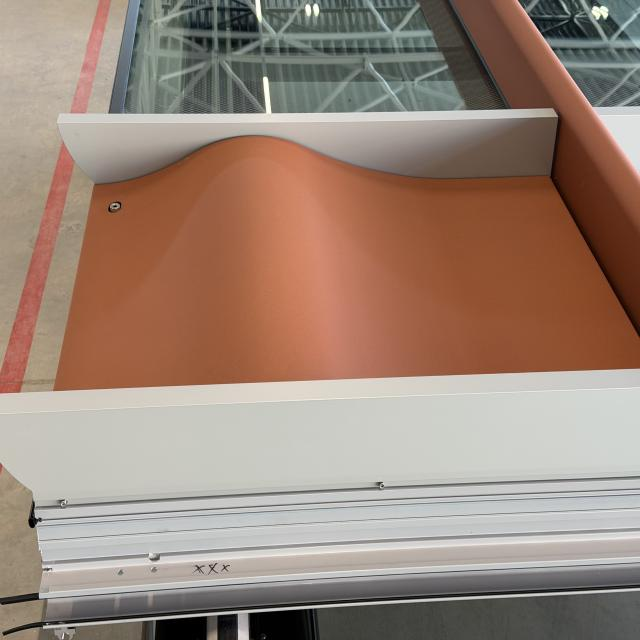ok: (0, 2, 638, 596)
